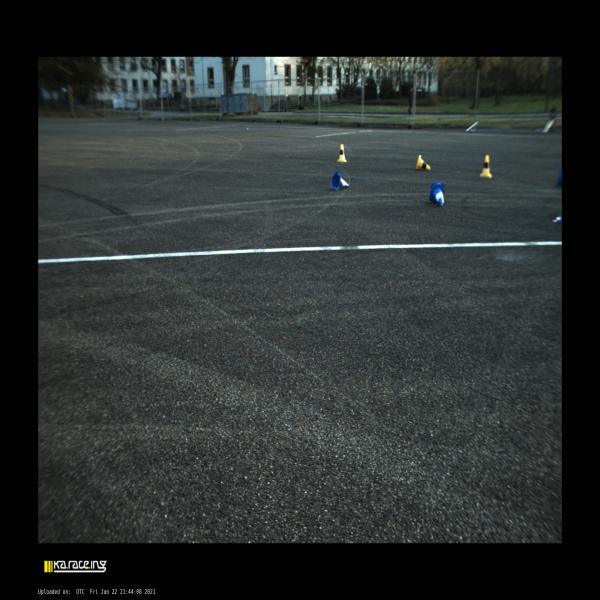blue_cone: (429, 182, 444, 206), (331, 172, 348, 190)
yellow_cone: (480, 155, 492, 178), (415, 154, 431, 170), (336, 144, 347, 162)
